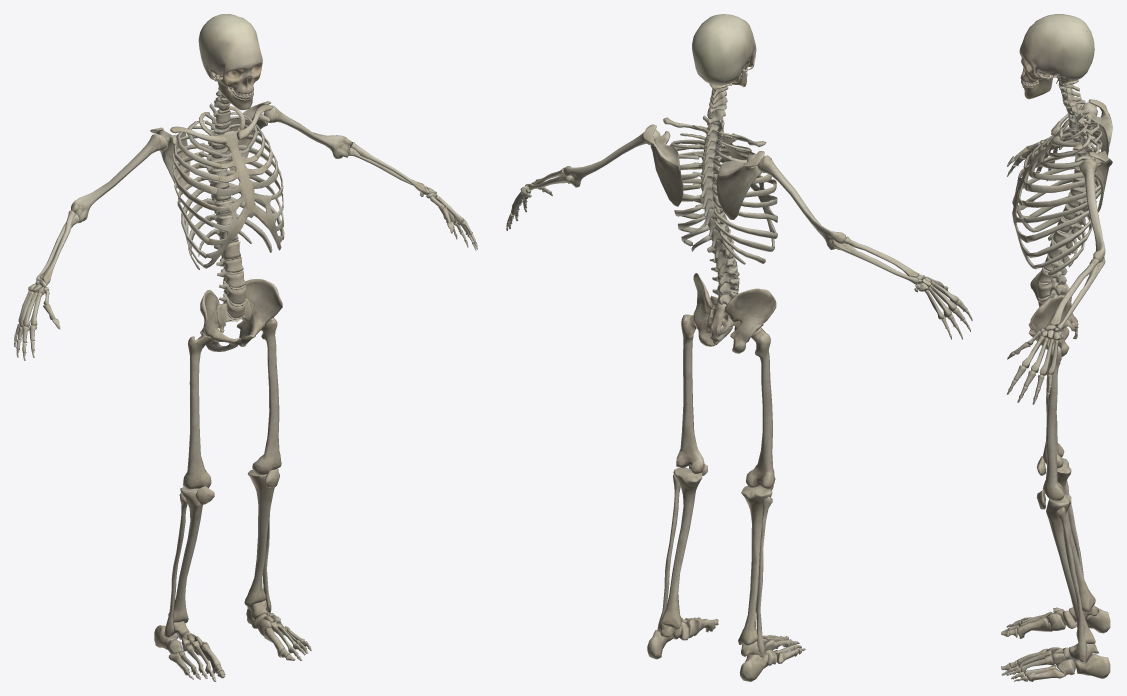
Rendered from skeleton.fbx.
The picture shows the model from 3 angles, left to right: view 1: azimuth 30°, elevation 25°; view 2: azimuth 150°, elevation 25°; view 3: azimuth 270°, elevation 25°; orthographic projection.
Parts seen in each view (by area): view 1: rib_cage, backbone, skull, breast_bone, femur_R, bones_of_foot_R1, femur_L, pelvis_L, tibia_L, bones_of_foot_L, tibia_R, bones_of_hand_R (+6 smaller); view 2: backbone, rib_cage, skull, femur_R, femur_L, tibia_L, pelvis_R, tibia_R, shoulder_blade_R, shoulder_blade_L, bones_of_foot_R1, bones_of_hand_R (+7 smaller); view 3: rib_cage, skull, backbone, bones_of_foot_L, bones_of_hand_L, bones_of_foot_R1, femur_L, tibia_L, breast_bone, Humerus_L, Fibula_L, tibia_R (+11 smaller).
Boxes of the visible parts, <box> form: rib_cage: <box>172,106,284,269</box>; backbone: <box>199,77,251,332</box>; skull: <box>198,14,262,96</box>; breast_bone: <box>203,127,283,268</box>; femur_R: <box>183,334,212,489</box>; bones_of_foot_R1: <box>154,621,225,681</box>; femur_L: <box>252,317,281,475</box>; pelvis_L: <box>237,279,282,346</box>; tibia_L: <box>244,468,278,607</box>; bones_of_foot_L: <box>246,600,311,660</box>; tibia_R: <box>168,487,208,623</box>; bones_of_hand_R: <box>14,280,60,360</box>; backbone: <box>693,83,740,344</box>; rib_cage: <box>670,125,777,264</box>; skull: <box>692,14,756,85</box>; femur_R: <box>746,327,775,489</box>; femur_L: <box>676,314,704,474</box>; tibia_L: <box>661,467,702,629</box>; pelvis_R: <box>724,288,776,353</box>; tibia_R: <box>738,485,772,645</box>; shoulder_blade_R: <box>716,151,764,219</box>; shoulder_blade_L: <box>643,124,683,206</box>; bones_of_foot_R1: <box>739,635,805,681</box>; bones_of_hand_R: <box>914,274,972,339</box>; rib_cage: <box>1022,114,1102,275</box>; skull: <box>1019,14,1094,84</box>; backbone: <box>1037,79,1097,339</box>; bones_of_foot_L: <box>1001,643,1110,681</box>; bones_of_hand_L: <box>1006,325,1062,404</box>; bones_of_foot_R1: <box>1001,605,1110,638</box>; femur_L: <box>1042,340,1064,501</box>; tibia_L: <box>1046,494,1095,643</box>; breast_bone: <box>1012,126,1065,269</box>; Humerus_L: <box>1079,159,1105,262</box>; Fibula_L: <box>1055,507,1087,661</box>; tibia_R: <box>1057,458,1095,612</box>.
Bounding box in the file's own units: 23.13 × 30.94 × 4.92.
2 materials, 2 textured.
